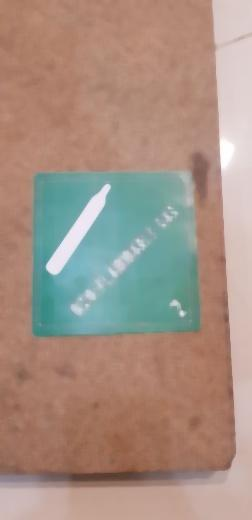non-flammable-gas: (32, 170, 202, 336)
